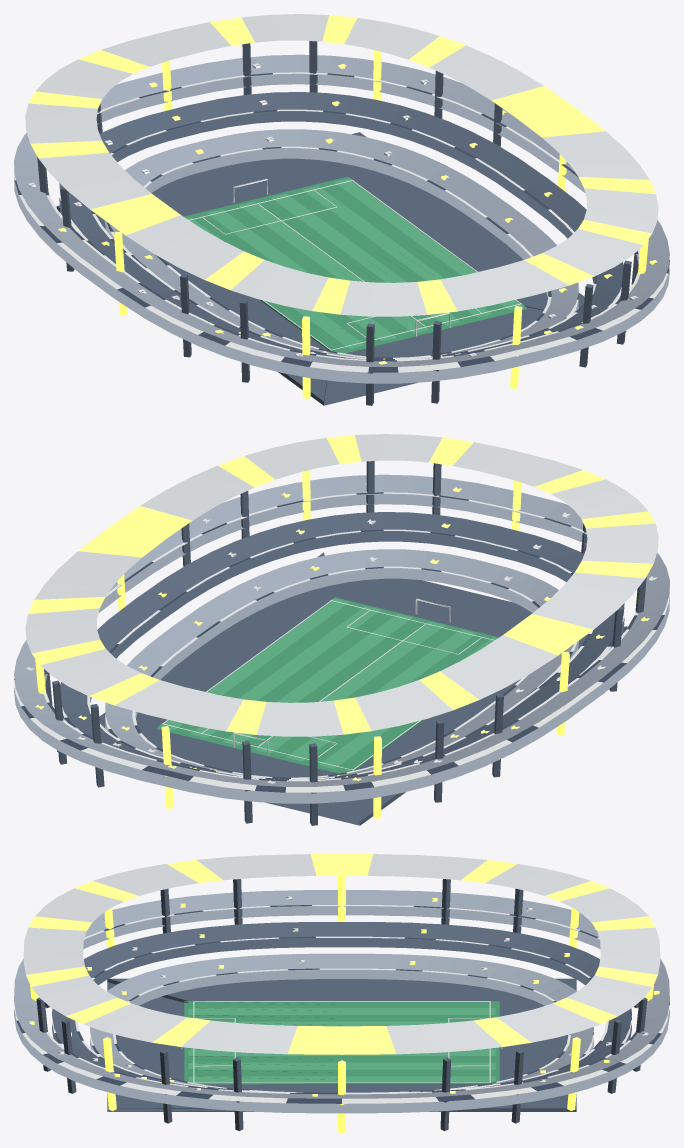
The model's file is allianz-stadium-torino.glb.
3 views of the same model, one above another, from view 1: azimuth 30°, elevation 25°; view 2: azimuth 150°, elevation 25°; view 3: azimuth 270°, elevation 25° (orthographic). The views are drawn at different scales.
Visible parts, largest first — view 1: Allianz Stadium; view 2: Allianz Stadium; view 3: Allianz Stadium.
Boxes of the visible parts, x1,y1,x2,y2 form: Allianz Stadium: (14,14,669,405); Allianz Stadium: (14,434,669,825); Allianz Stadium: (14,854,669,1133).
Size of the model in its own units: 61.06 by 13.1 by 81.08.
